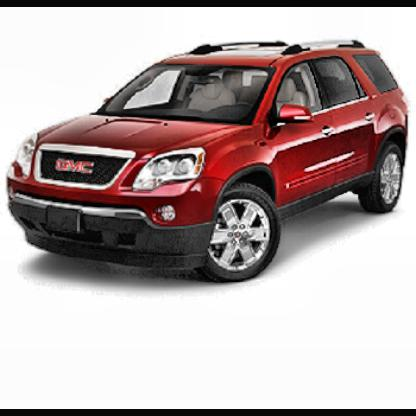GMC Acadia SUV 2012: (7, 39, 413, 285)
